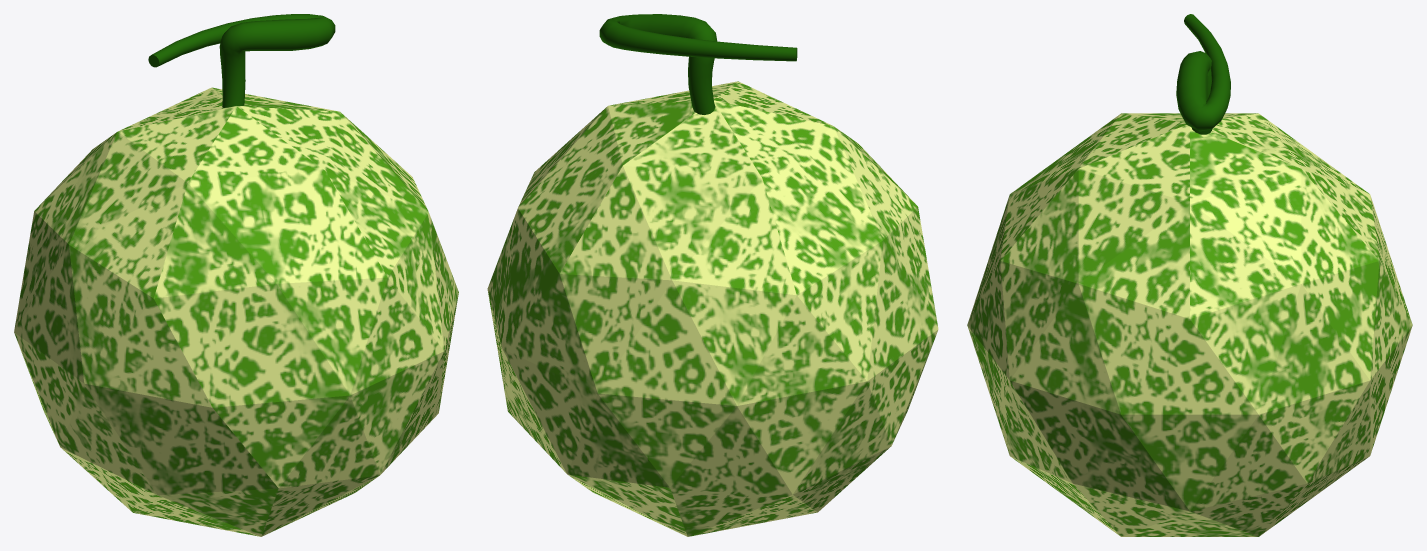
File: Melon.fbx
3 views of the same model, side by side, from view 1: azimuth 30°, elevation 25°; view 2: azimuth 150°, elevation 25°; view 3: azimuth 270°, elevation 25° (orthographic). The views are drawn at different scales.
Visible parts, largest first — view 1: ICO球, ベジエカーブ; view 2: ICO球, ベジエカーブ; view 3: ICO球, ベジエカーブ.
Boxes of the visible parts, left/top/right/bottom form: ICO球: left=14, top=87, right=458, bottom=536; ベジエカーブ: left=148, top=14, right=335, bottom=107; ICO球: left=487, top=81, right=938, bottom=536; ベジエカーブ: left=599, top=14, right=797, bottom=114; ICO球: left=967, top=113, right=1412, bottom=536; ベジエカーブ: left=1176, top=14, right=1230, bottom=134.
Bounding box in the file's own units: 190 × 238 × 200.
Materials: 2 (1 with a texture image).
